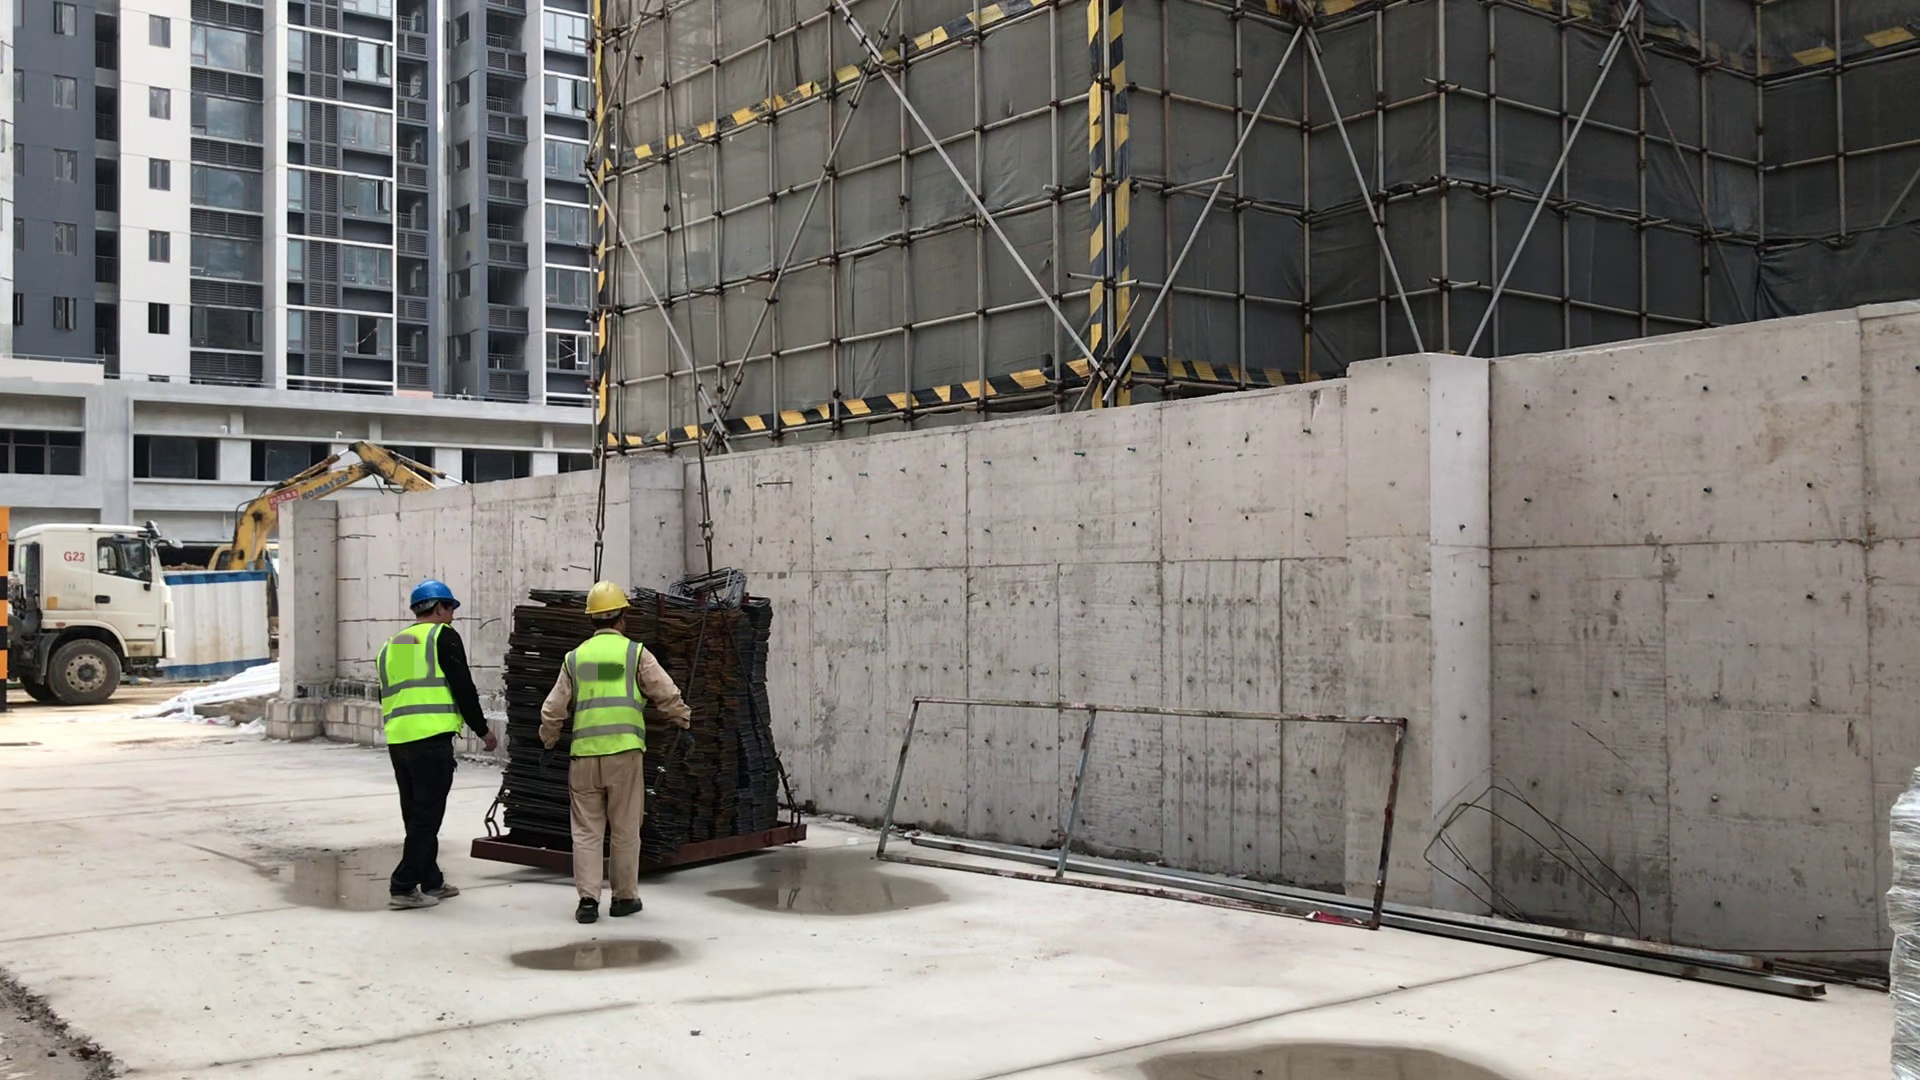helmet: (577, 569, 636, 621), (405, 563, 459, 618)
person: (553, 577, 681, 917), (369, 571, 467, 910)
vest: (378, 627, 465, 746), (566, 626, 654, 742)
